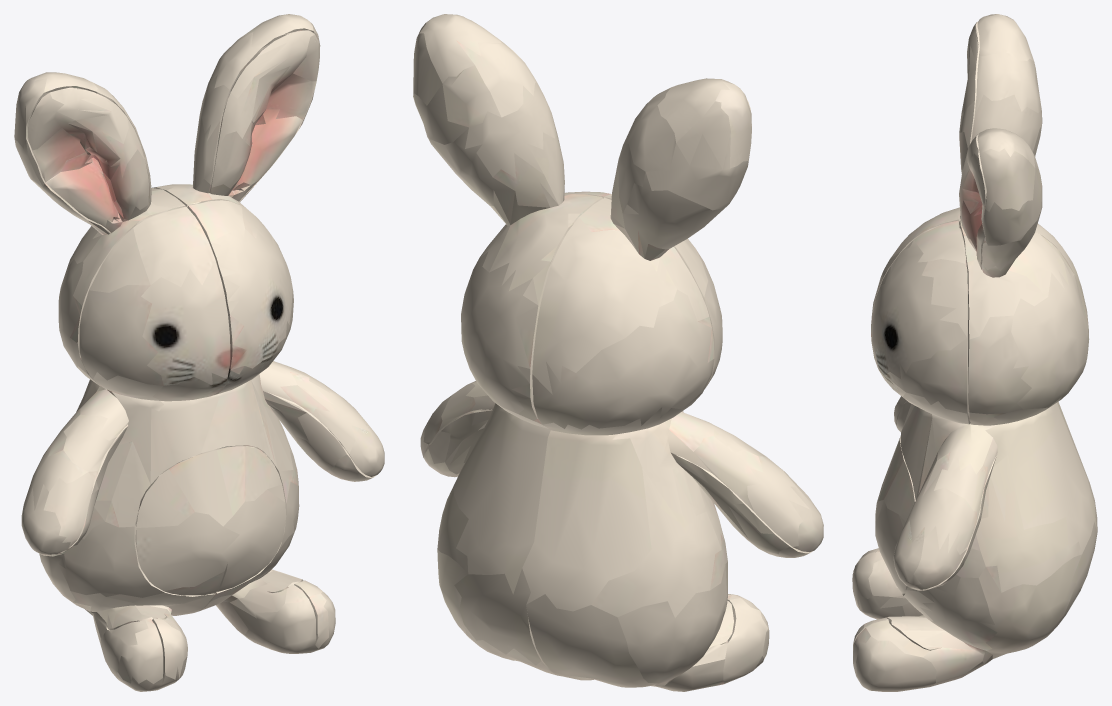
The model's file is bunny.glb.
3 views of the same model, side by side, from view 1: azimuth 30°, elevation 25°; view 2: azimuth 150°, elevation 25°; view 3: azimuth 270°, elevation 25° (orthographic). The views are drawn at different scales.
Visible parts, largest first — view 1: mesh_node; view 2: mesh_node; view 3: mesh_node.
Part boxes in pixels (x1,y1,x2,y2): mesh_node: (14,14,384,691); mesh_node: (413,14,823,691); mesh_node: (852,14,1097,691).
Size of the model in its own units: 1.21 by 1.9 by 0.7355.
Materials: 1 (1 with a texture image).
